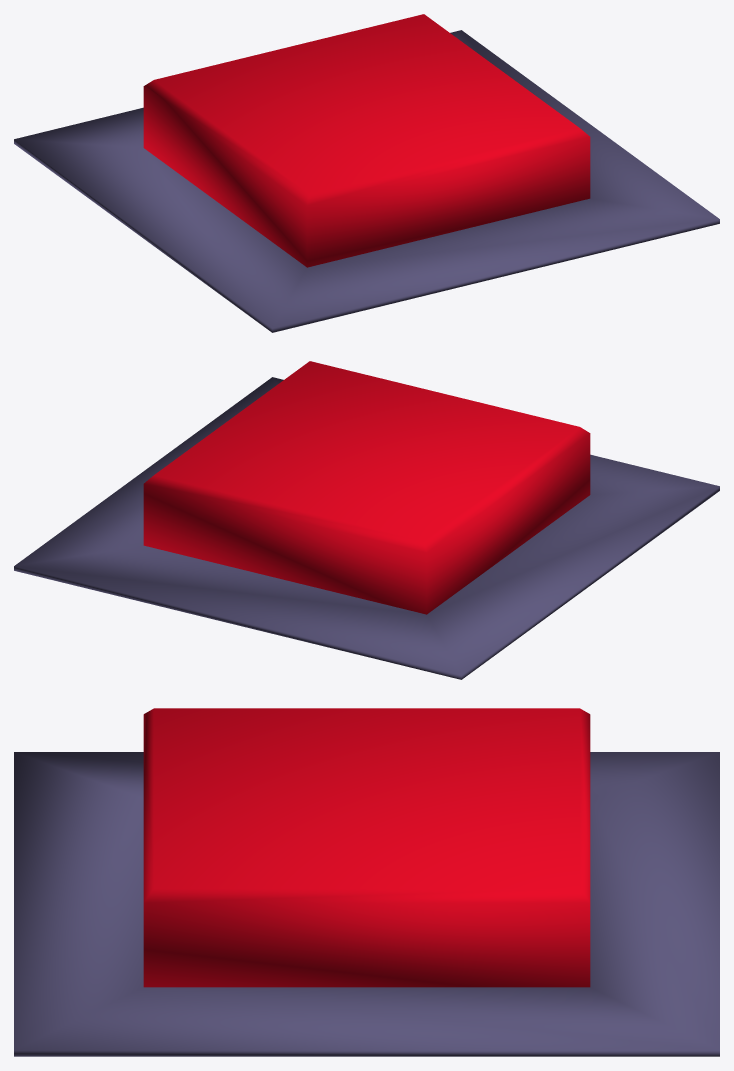
Rendered from Square_Button.fbx.
3 views of the same model, one above another, from view 1: azimuth 30°, elevation 25°; view 2: azimuth 150°, elevation 25°; view 3: azimuth 270°, elevation 25° (orthographic). The views are drawn at different scales.
Parts seen in each view (by area): view 1: square button.001, square button; view 2: square button.001, square button; view 3: square button.001, square button.
Boxes of the visible parts, bbox=[...] form: square button.001: bbox=[143, 14, 590, 267]; square button: bbox=[14, 30, 719, 332]; square button.001: bbox=[143, 361, 590, 614]; square button: bbox=[14, 377, 719, 679]; square button.001: bbox=[143, 708, 590, 987]; square button: bbox=[14, 752, 719, 1056].
Bounding box in the file's own units: 211 × 35.82 × 211.
